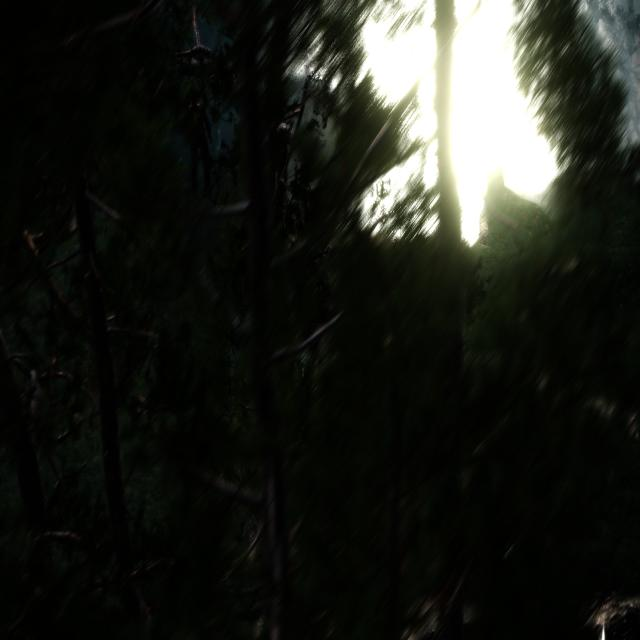Human: (184, 73, 218, 214)
